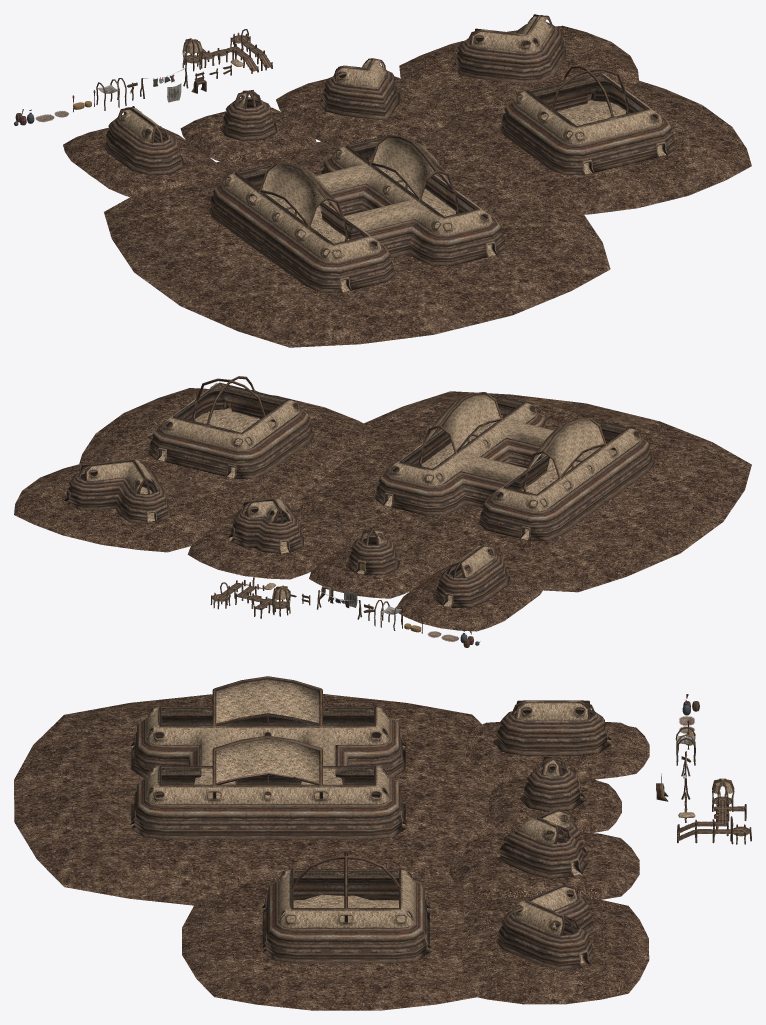
File: Huts_n_Homes.glb
3 renders of one model, top to bottom at view 1: azimuth 30°, elevation 25°; view 2: azimuth 150°, elevation 25°; view 3: azimuth 270°, elevation 25°, orthographic. The views are drawn at different scales.
Parts seen in each view (by area): view 1: Ground3.001, Ground3, HutH, TopHWindow, Hut3, GroundHeartBig, GroundHeart, Ground2, Top3Window, Ground, HutHeartBig, Hut2 (+5 smaller); view 2: Ground3.001, HutH, TopHWindow, Ground3, GroundHeartBig, Hut3, GroundHeart, Ground2, Top3Window, HutHeartBig, Ground, Hut2 (+5 smaller); view 3: Ground3.001, TopHWindow, Ground3, HutH, GroundHeartBig, Hut3, GroundHeart, Ground2, Top3Window, HutHeartBig, Hut2, Ground (+5 smaller).
Boxes of the visible parts, x1,y1,x2,y2 form: Ground3.001: (104,138,610,347); Ground3: (427,80,751,214); HutH: (207,144,506,292); TopHWindow: (223,134,491,262); Hut3: (499,79,677,175); GroundHeartBig: (399,25,638,115); GroundHeart: (276,76,451,145); Ground2: (63,127,219,199); Top3Window: (514,65,661,144); Ground: (180,107,316,164); HutHeartBig: (452,22,565,83); Hut2: (102,114,184,175); Ground3.001: (297,391,751,592); HutH: (373,401,654,540); TopHWindow: (388,392,640,511); Ground3: (79,388,366,511); GroundHeartBig: (14,462,237,552); Hut3: (147,389,314,479); GroundHeart: (187,509,352,579); Ground2: (397,564,547,631); Top3Window: (161,376,300,449); HutHeartBig: (63,469,170,524); Ground: (309,544,436,598); Hut2: (433,551,509,607); Ground3.001: (14,694,512,905); TopHWindow: (146,676,389,804); Ground3: (182,877,487,1010); HutH: (130,714,406,839); GroundHeartBig: (457,897,649,1004); Hut3: (261,876,431,963); GroundHeart: (449,832,639,899); Ground2: (467,722,649,779); Top3Window: (278,850,414,927); HutHeartBig: (496,892,594,969); Hut2: (493,708,611,755); Ground: (489,778,621,832).
Size of the model in its own units: 84.94 by 11.66 by 82.85.
11 materials, 10 textured.
